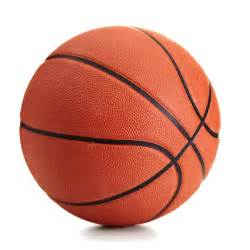basketball: (17, 24, 222, 232)
